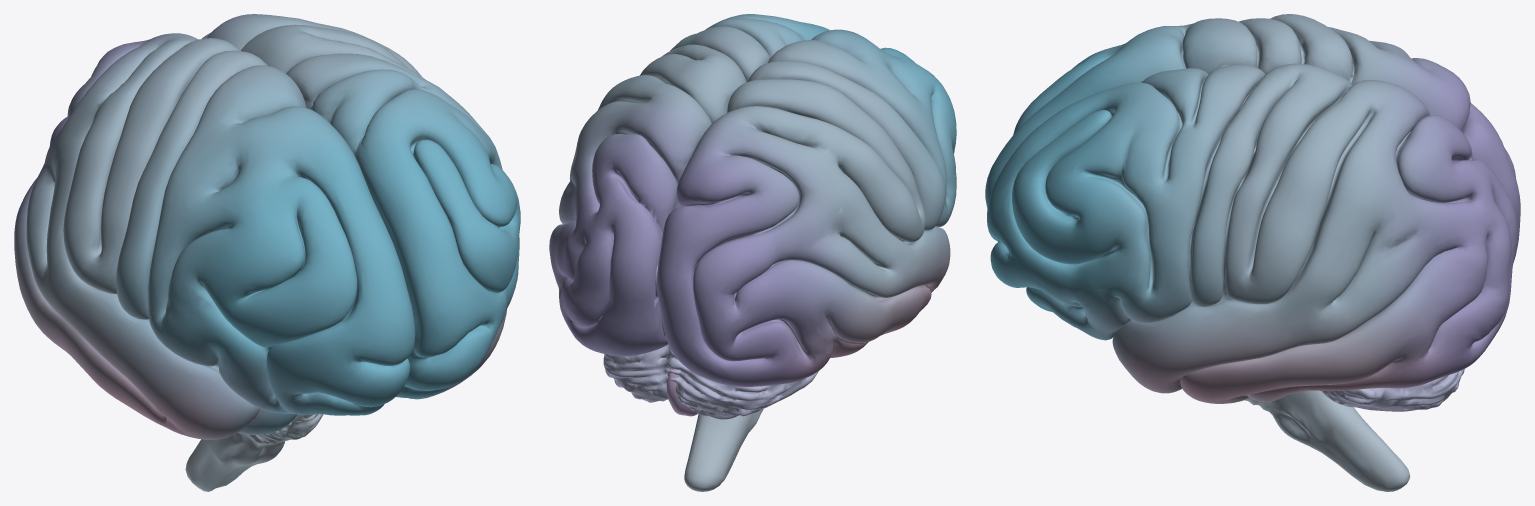
The model's file is cortex-brain-v2-mobile.glb.
The picture shows the model from 3 angles, left to right: view 1: azimuth 30°, elevation 25°; view 2: azimuth 150°, elevation 25°; view 3: azimuth 270°, elevation 25°; orthographic projection. The views are drawn at different scales.
Visible parts, largest first — view 1: Cortex_L, Cortex_R, Brainstem; view 2: Cortex_L, Cortex_R, Cerebellar_hemispheres, Brainstem, Cerebellar_vermis; view 3: Cortex_R, Cortex_L, Brainstem, Cerebellar_hemispheres.
Boxes of the visible parts, x1,y1,x2,y2 form: Cortex_L: [14, 33, 415, 439]; Cortex_R: [202, 14, 520, 399]; Brainstem: [185, 414, 323, 491]; Cortex_L: [655, 29, 956, 386]; Cortex_R: [549, 14, 829, 356]; Cerebellar_hemispheres: [603, 344, 818, 419]; Brainstem: [684, 409, 763, 491]; Cerebellar_vermis: [666, 368, 697, 416]; Cortex_R: [987, 63, 1517, 403]; Cortex_L: [985, 14, 1520, 262]; Brainstem: [1244, 390, 1409, 491]; Cerebellar_hemispheres: [1321, 369, 1464, 411].
Size of the model in its own units: 5.07 by 5.87 by 6.39.
